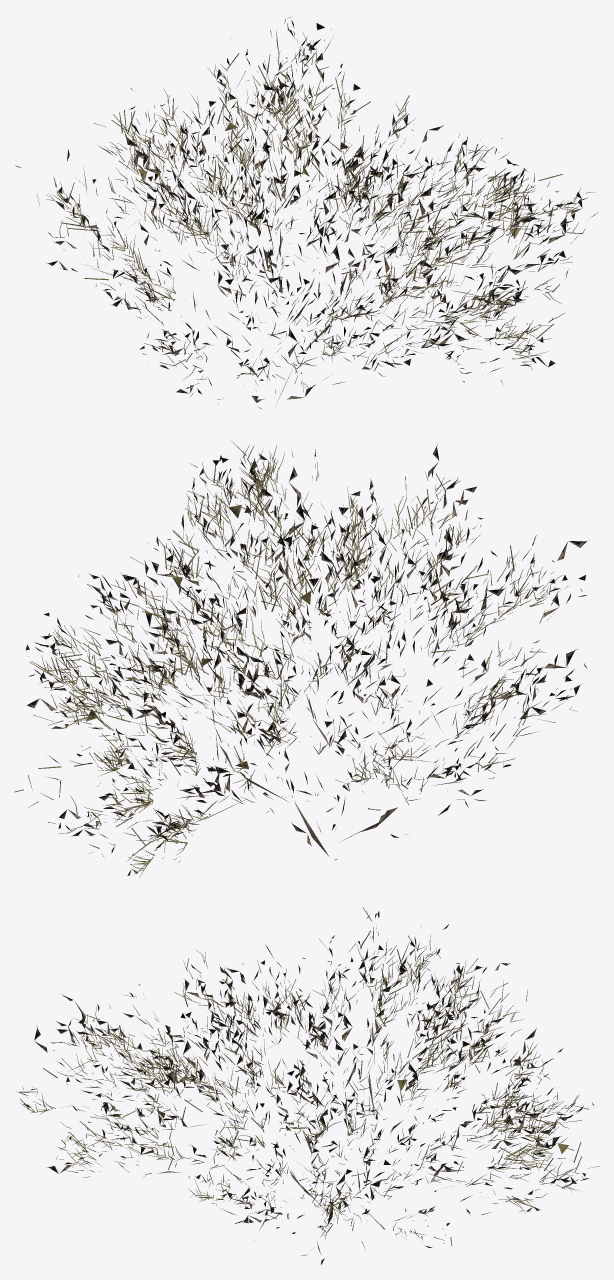
File: searsia_burchellii_0.glb
3 views of the same model, one above another, from view 1: azimuth 30°, elevation 25°; view 2: azimuth 150°, elevation 25°; view 3: azimuth 270°, elevation 25° (orthographic). The views are drawn at different scales.
Visible parts, largest first — view 1: searsia_burchellii_large_LOD0; view 2: searsia_burchellii_large_LOD0; view 3: searsia_burchellii_large_LOD0.
Boxes of the visible parts, x1=… form: searsia_burchellii_large_LOD0: x1=15, y1=17, x2=596, y2=409; searsia_burchellii_large_LOD0: x1=14, y1=441, x2=589, y2=877; searsia_burchellii_large_LOD0: x1=16, y1=907, x2=599, y2=1264.
Bounding box in the file's own units: 4.13 × 3.16 × 5.02.
2 materials, 2 textured.
